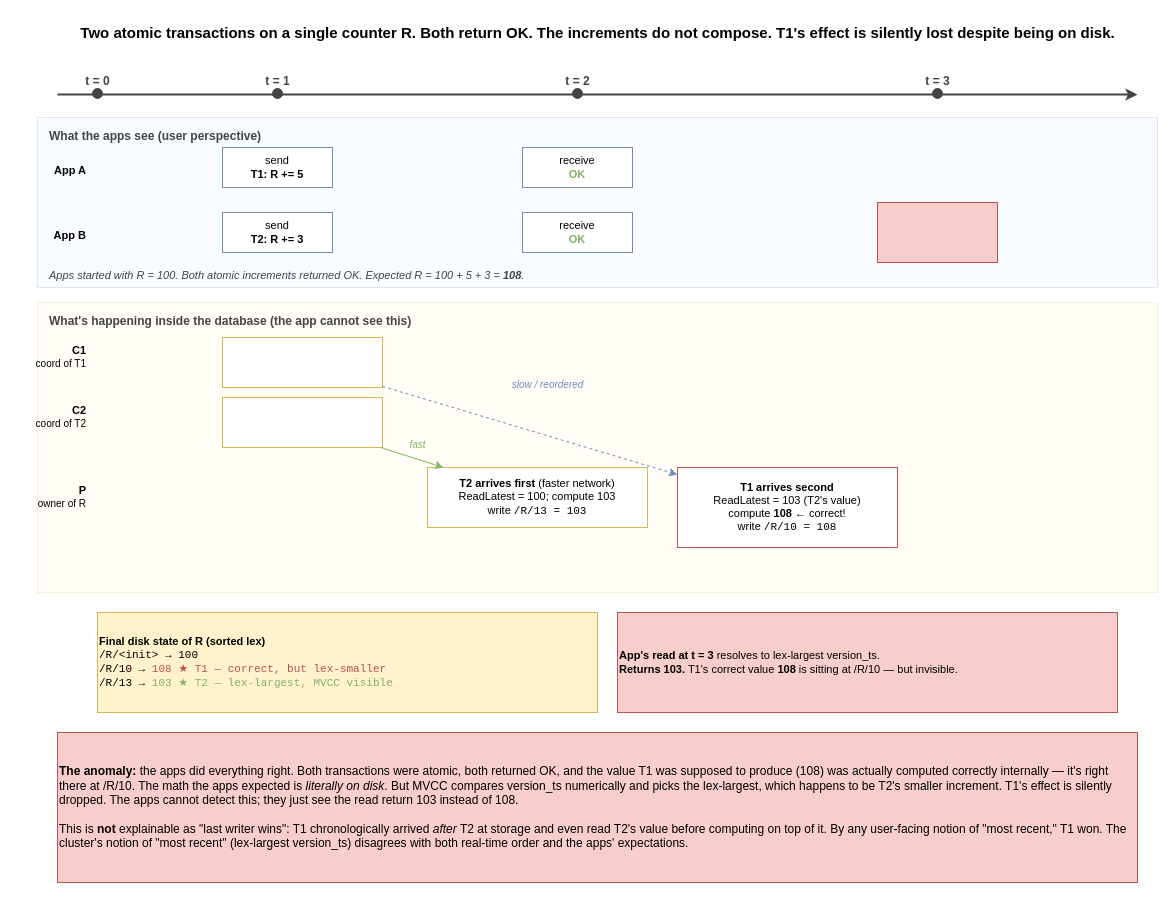
The diagram is 1175 pixels wide and 900 high, and some of its shapes have lost their labels. The box of each missing label's shape, as (x1, y1, x2, y2) in pixels:
picks commit_ts = 10 send write to P: (222, 336, 382, 388)
picks commit_ts = 13 send write to P: (222, 396, 382, 448)
read R 103 ⚠ expected 108: (876, 202, 998, 262)
